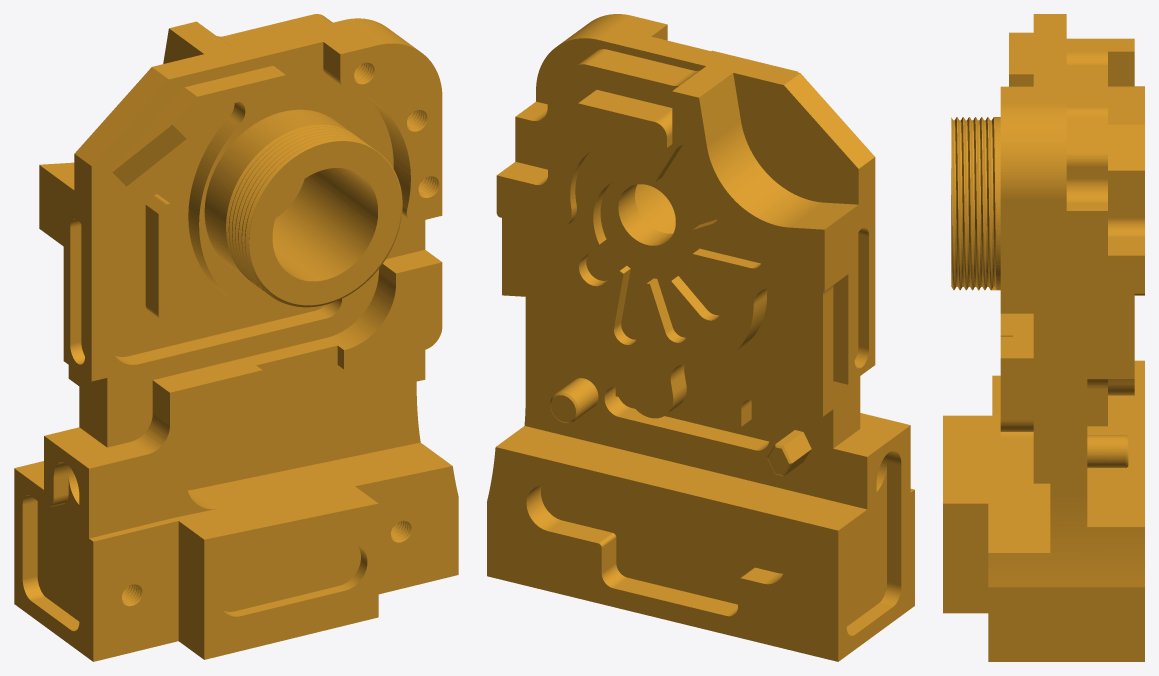
3 renders of one model, left to right at view 1: azimuth 30°, elevation 25°; view 2: azimuth 150°, elevation 25°; view 3: azimuth 270°, elevation 25°, orthographic. The views are drawn at different scales.
Bounding box in the file's own units: 98 × 140 × 49.
